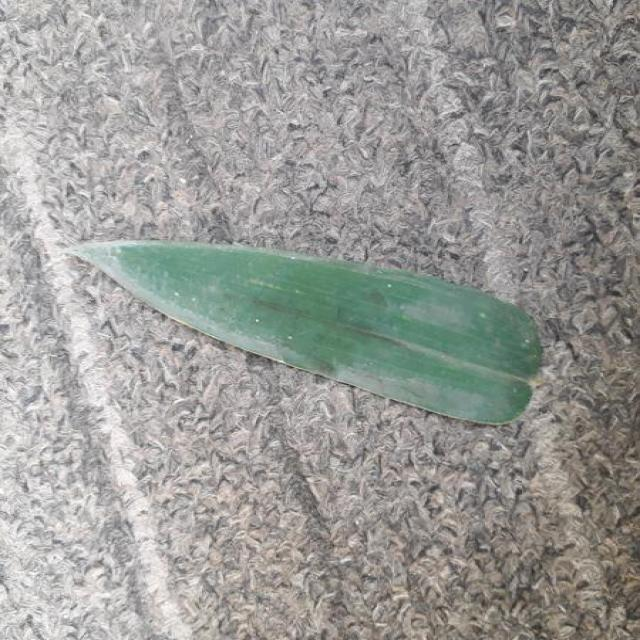Bamboo: (70, 241, 542, 424)
